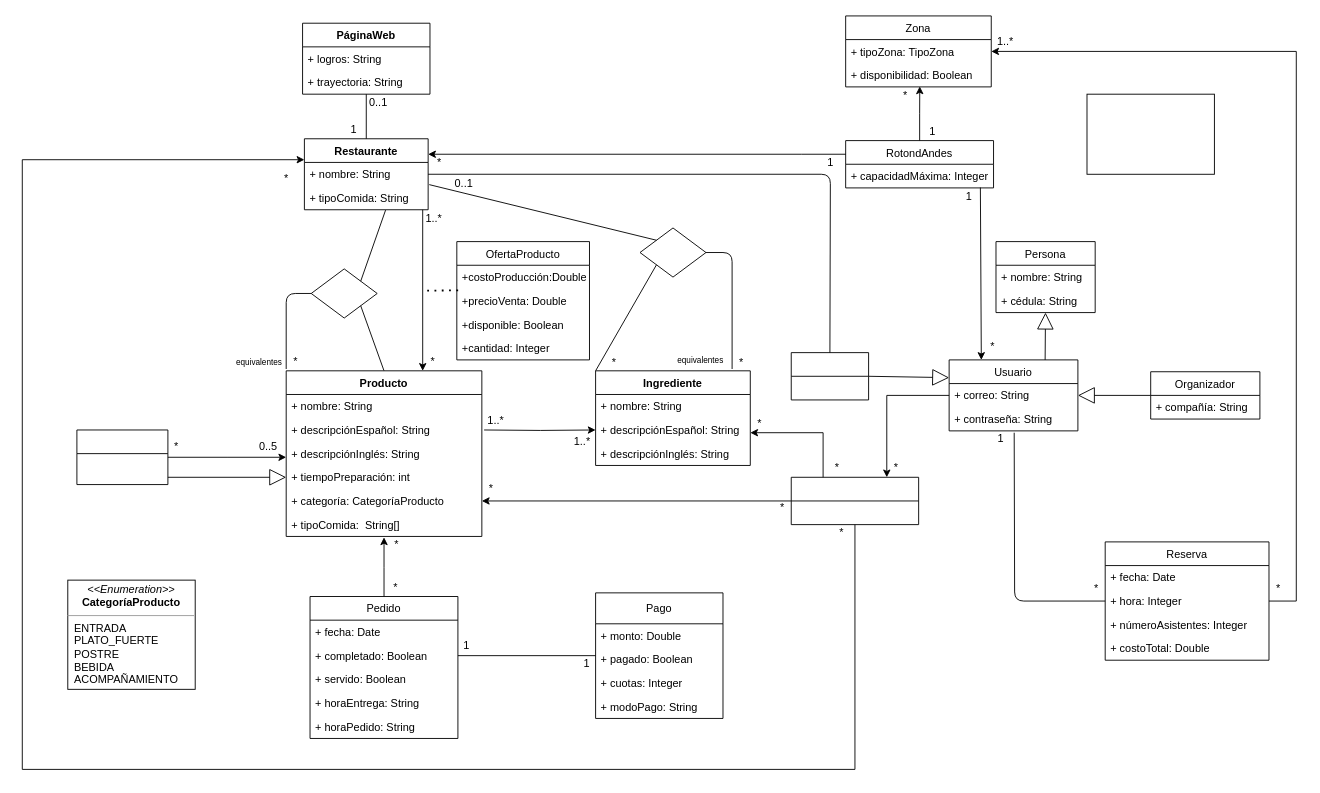
Image size: 1320x793. Some labels were removed from this diagram. Each missing label, with the centre of its shape:
<<Enumeration>> TipoZona MESA BARRA: point 1150,133
Menú: point 122,457
Preferencia: point 854,500
Representante: point 829,376
